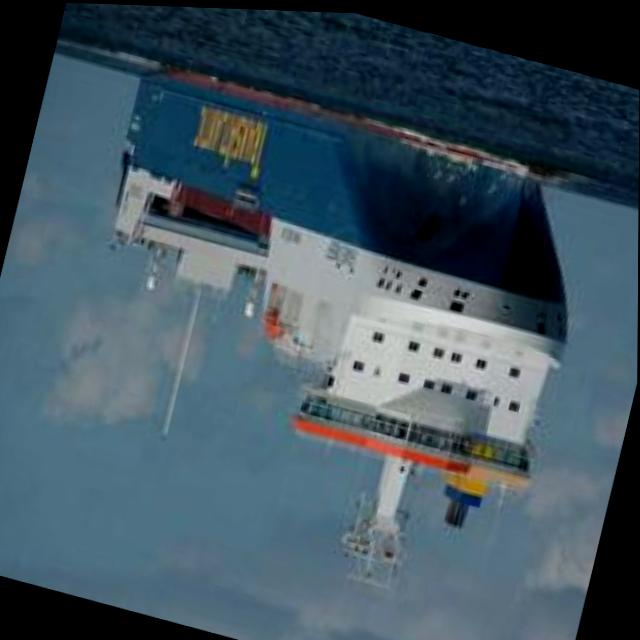ship2: (109, 67, 569, 582)
